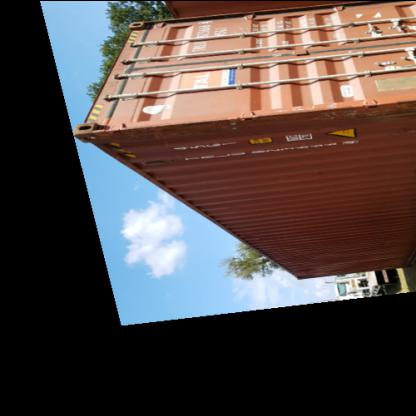Damage: (226, 88, 412, 138), (84, 105, 191, 150), (291, 254, 341, 276)
